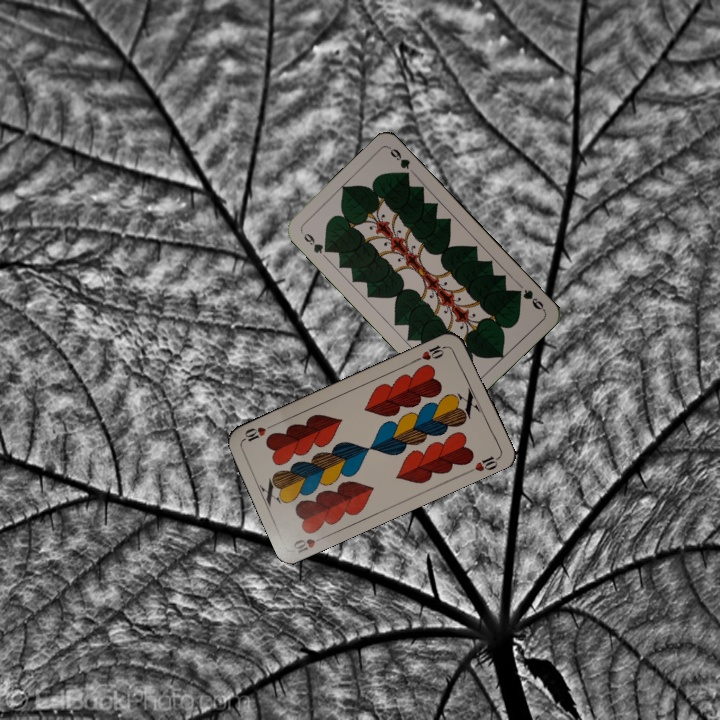G9: (298, 228, 333, 257), (511, 285, 547, 313)
H10: (289, 532, 329, 556), (412, 341, 451, 364)
